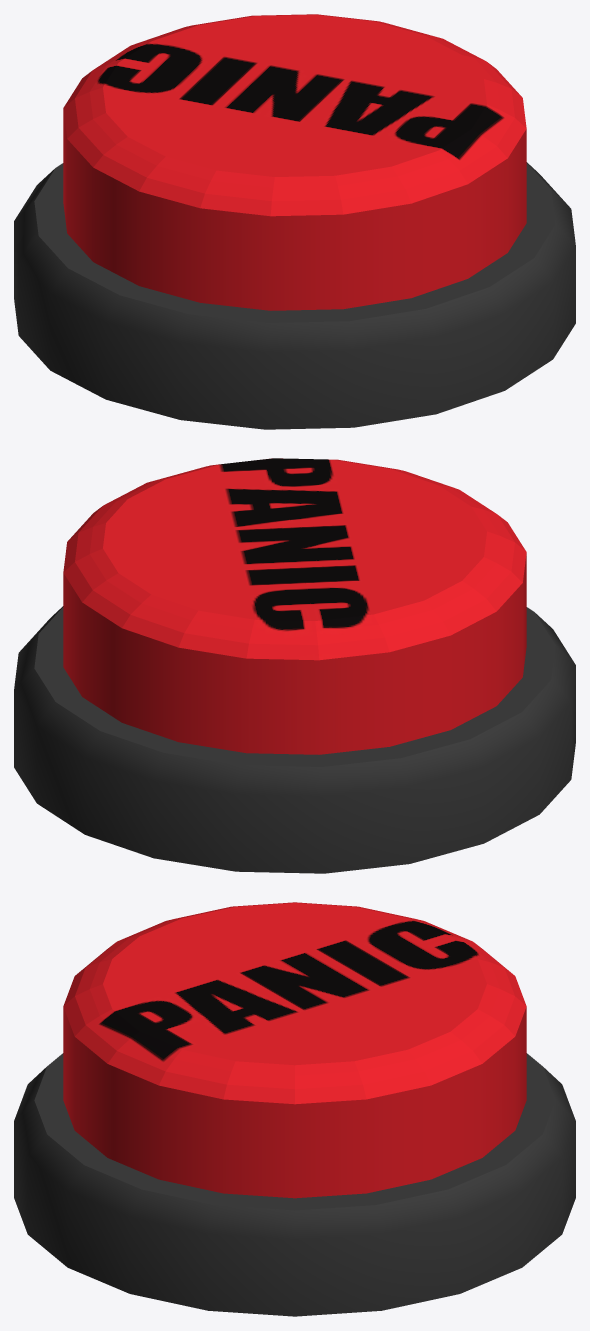
The model's file is PanicButton01.fbx.
3 renders of one model, top to bottom at view 1: azimuth 30°, elevation 25°; view 2: azimuth 150°, elevation 25°; view 3: azimuth 270°, elevation 25°, orthographic.
Parts seen in each view (by area): view 1: pCylinder1; view 2: pCylinder1; view 3: pCylinder1.
Part boxes in pixels (x1=…): pCylinder1: x1=14, y1=14, x2=575, y2=429; pCylinder1: x1=14, y1=458, x2=575, y2=873; pCylinder1: x1=14, y1=902, x2=575, y2=1316.
Size of the model in its own units: 9.88 by 4.15 by 9.88.
Materials: 1 (1 with a texture image).
